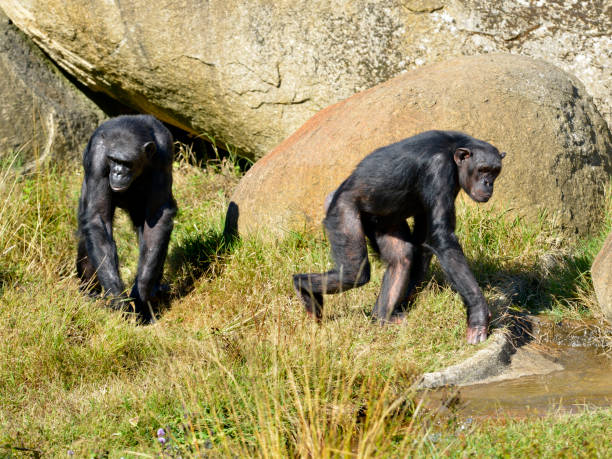chimpanzee: (436, 119, 521, 221), (81, 121, 165, 207)
